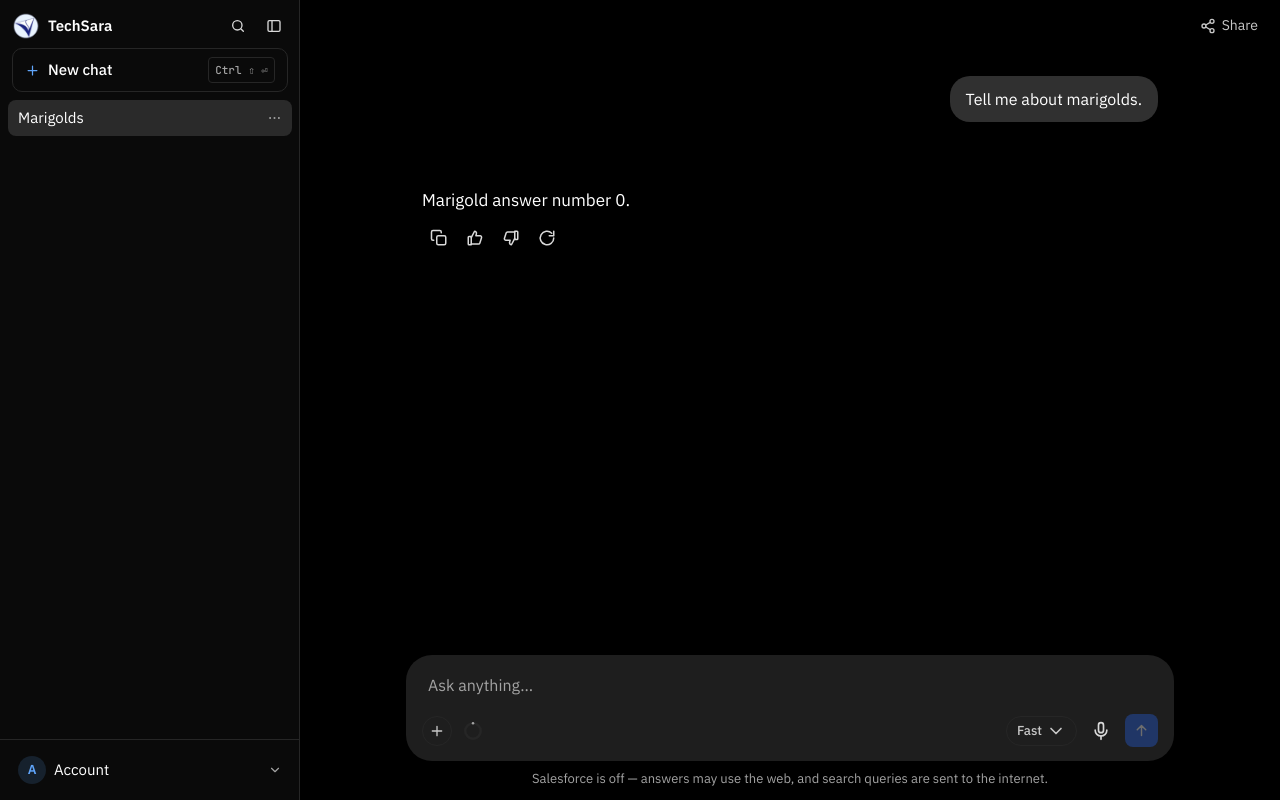
it: when the server stores the answer late › Try again on an answered question › three clicks with no poll between them make three versions of the answer, not three stacked copies
Expected: the text "Marigold answer number 0." is shown, [422,189,630,211]
Click the button named "Try again". click: click(547, 238)
box: [530,221,564,255]
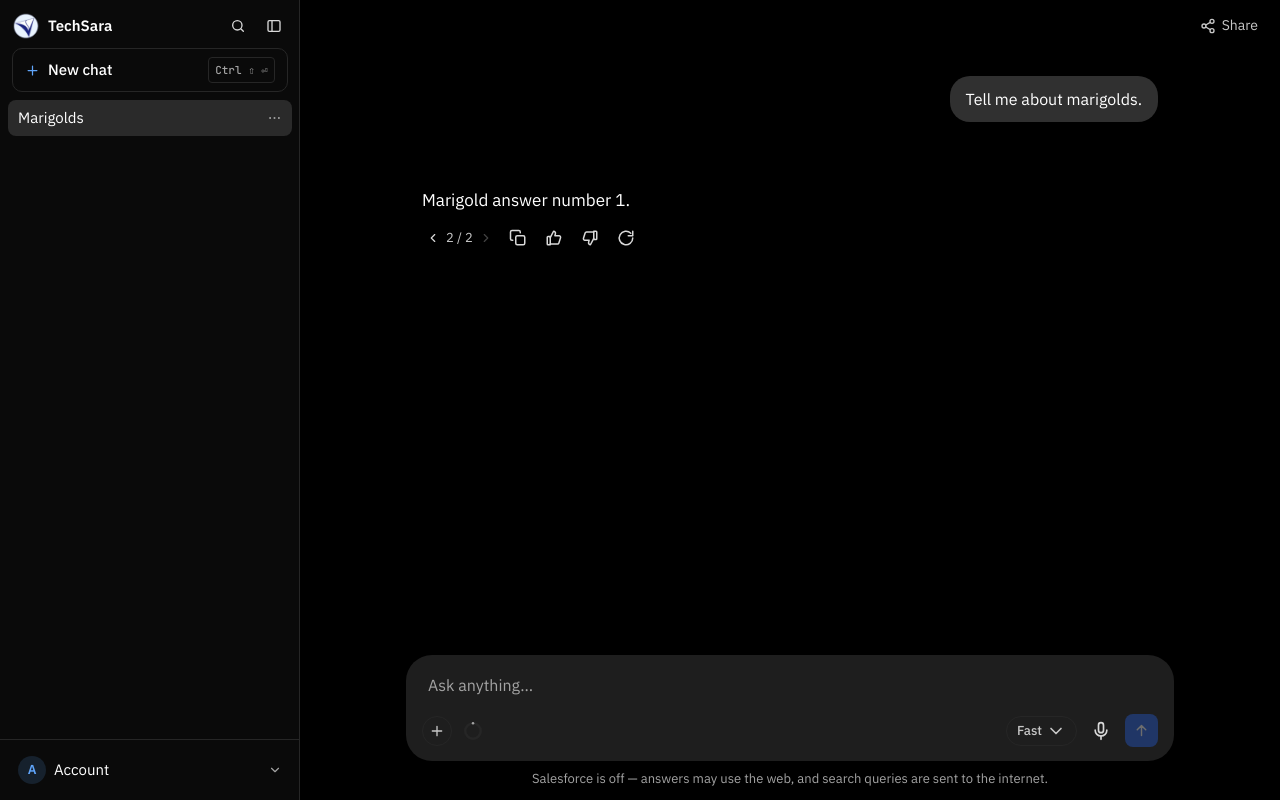
Expected: the text "Marigold answer number 1." is shown, [422,189,630,211]
Click the button named "Try again". click: click(626, 238)
box: [609,221,643,255]
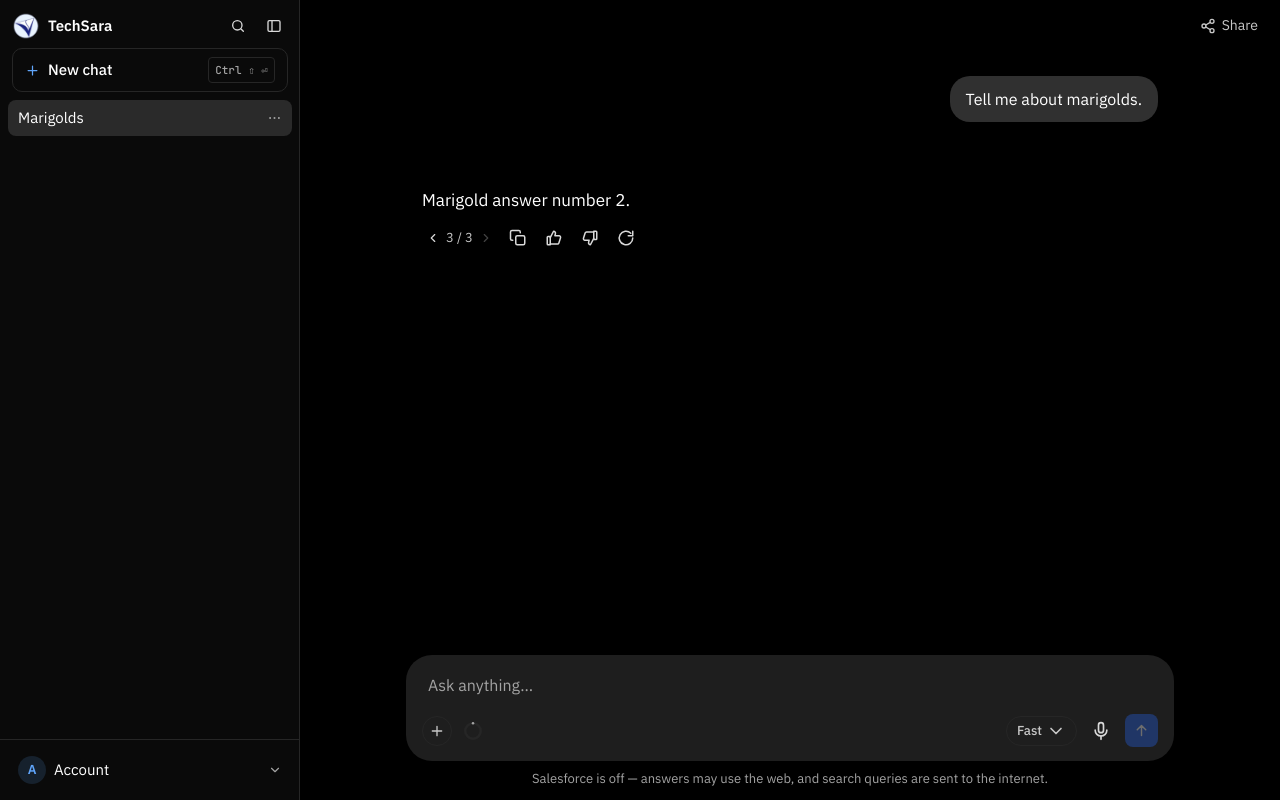
Expected: the text "Marigold answer number 2." is shown, [422,189,630,211]
Click the button named "Try again". click: click(626, 238)
box: [609,221,643,255]
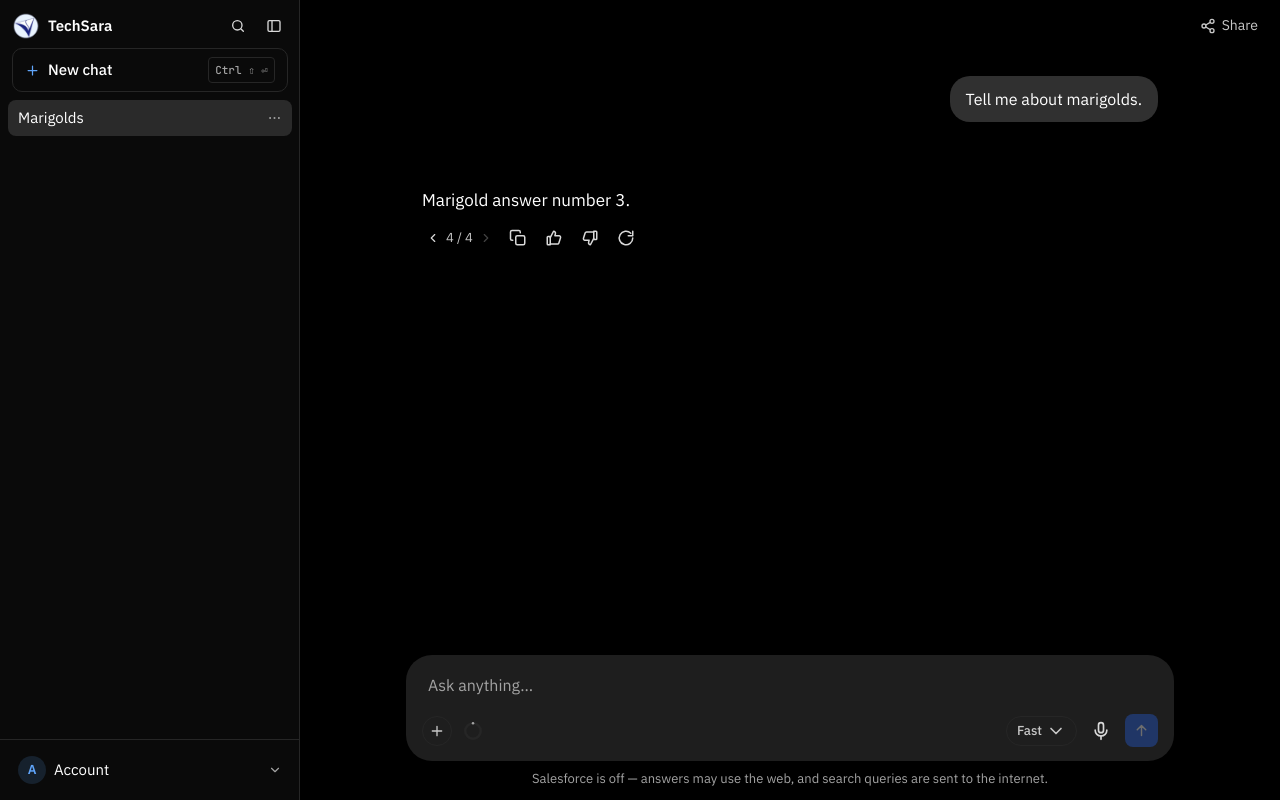
Expected: the text "Marigold answer number 3." is shown, [422,189,630,211]
